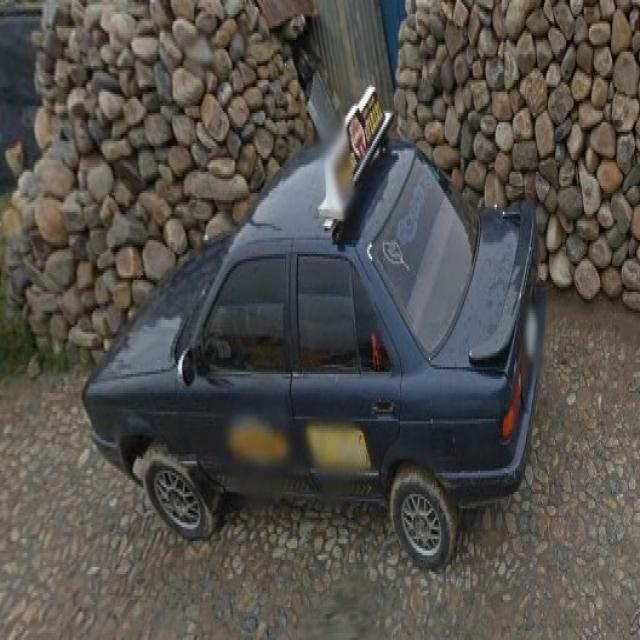cars: (92, 200, 539, 551)
